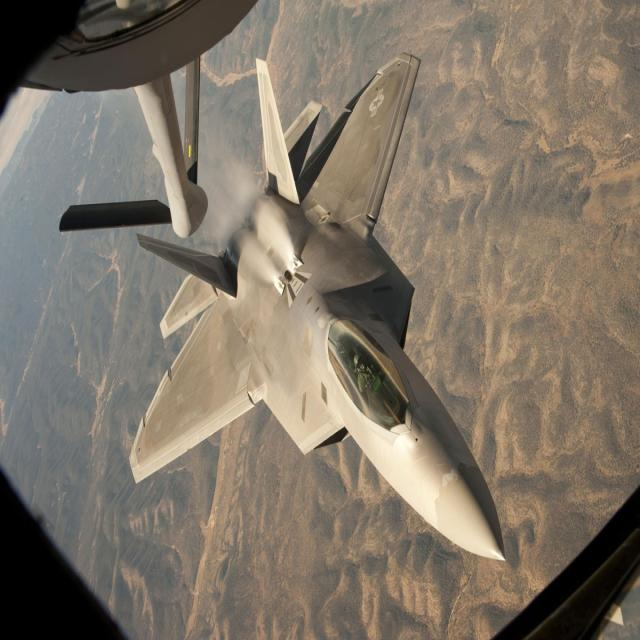F22: (22, 14, 582, 618)
